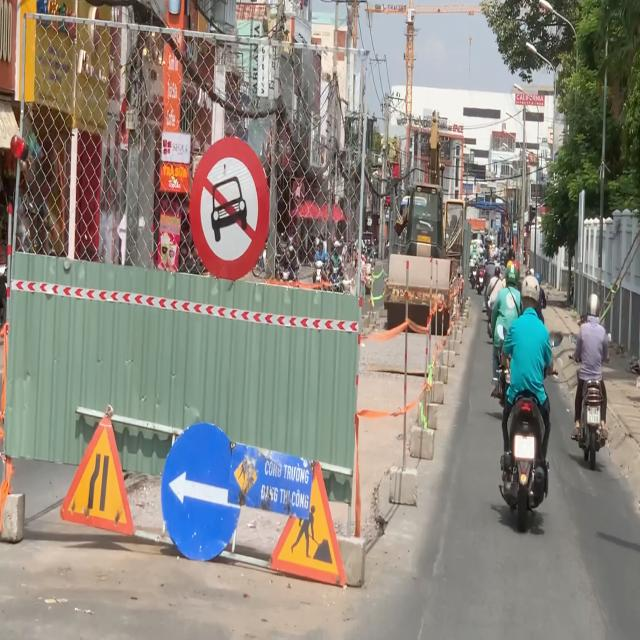Cam con lai: (188, 135, 270, 281)
Nguy hiem: (267, 459, 347, 589), (59, 408, 135, 539)
Re trai: (160, 421, 242, 564)
